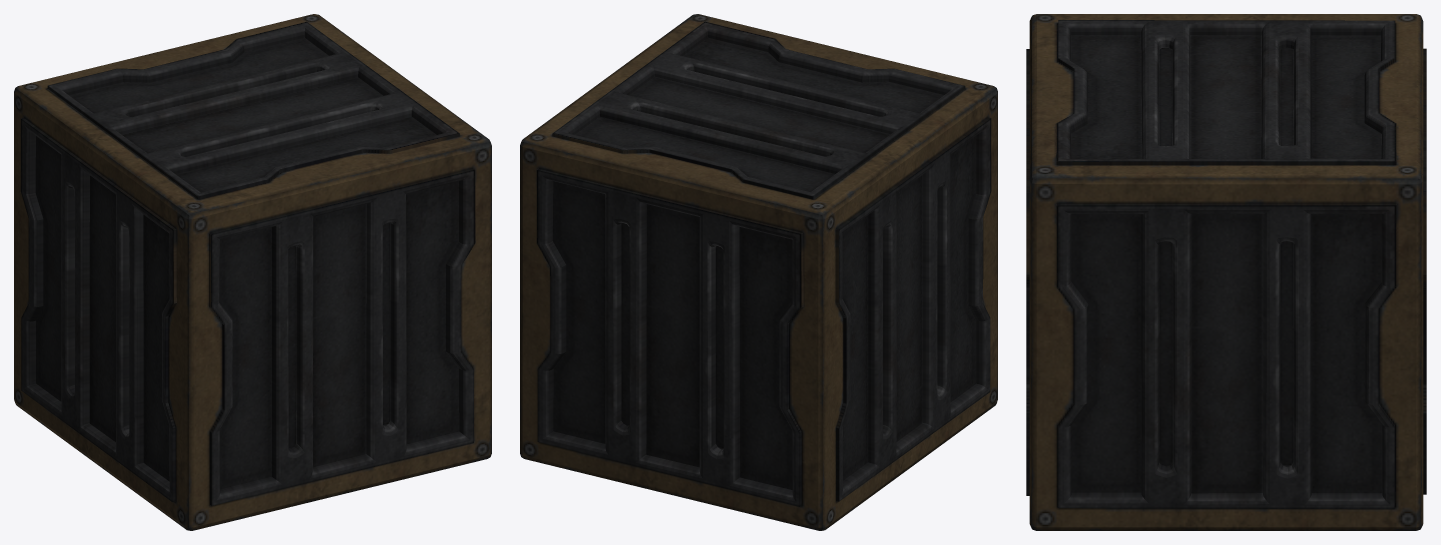
The model's file is metal_crate_3.obj.
The picture shows the model from 3 angles, left to right: view 1: azimuth 30°, elevation 25°; view 2: azimuth 150°, elevation 25°; view 3: azimuth 270°, elevation 25°; orthographic projection. The views are drawn at different scales.
Visible parts, largest first — view 1: metal_crate_3; view 2: metal_crate_3; view 3: metal_crate_3.
Boxes of the visible parts, bbox=[...] form: metal_crate_3: bbox=[14, 14, 491, 530]; metal_crate_3: bbox=[520, 14, 997, 530]; metal_crate_3: bbox=[1026, 14, 1426, 530].
Size of the model in its own units: 1.12 by 1.12 by 1.12.
